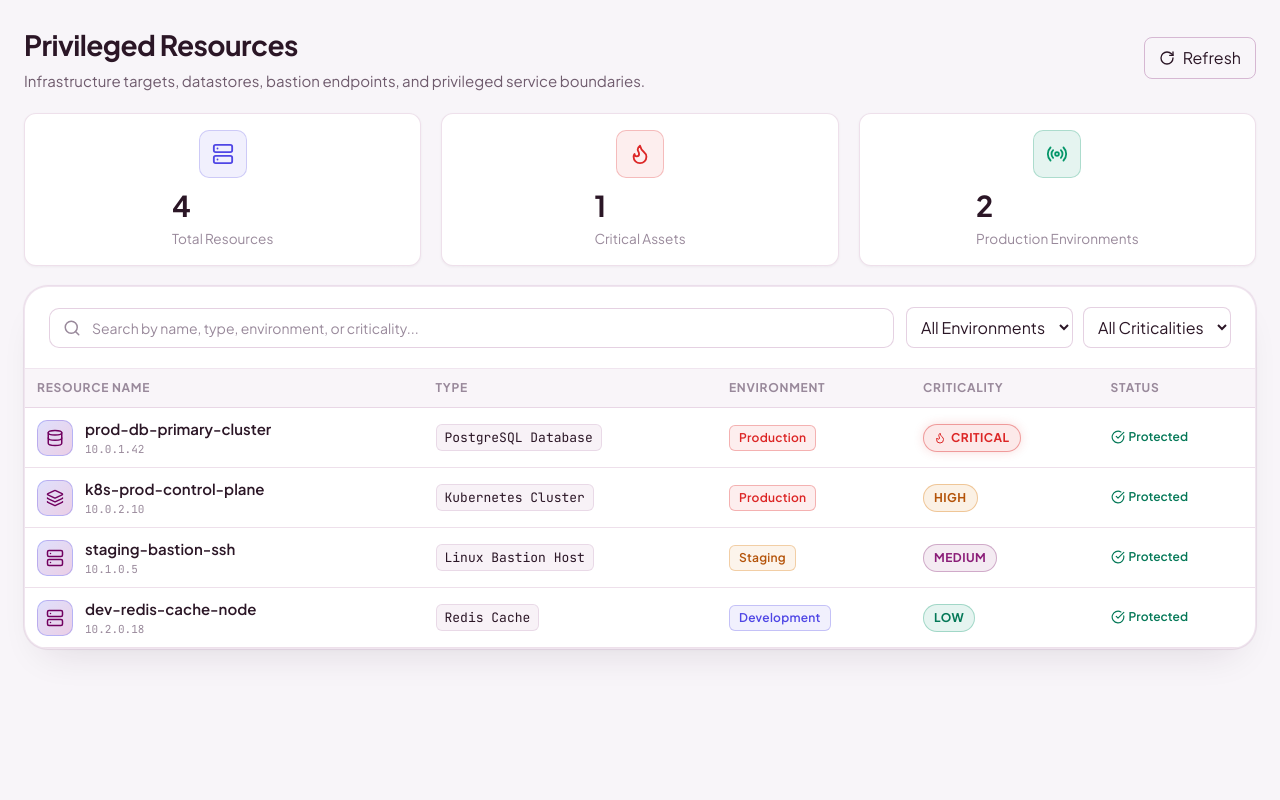
it: Resource List Screen (Resources Component) › filters resources dynamically when typing in the search input
Expected: the text "prod-db-primary-cluster" is shown, [85, 418, 271, 441]
In the field named "search resources": (472, 328) [49, 308, 894, 348], type "bastion"
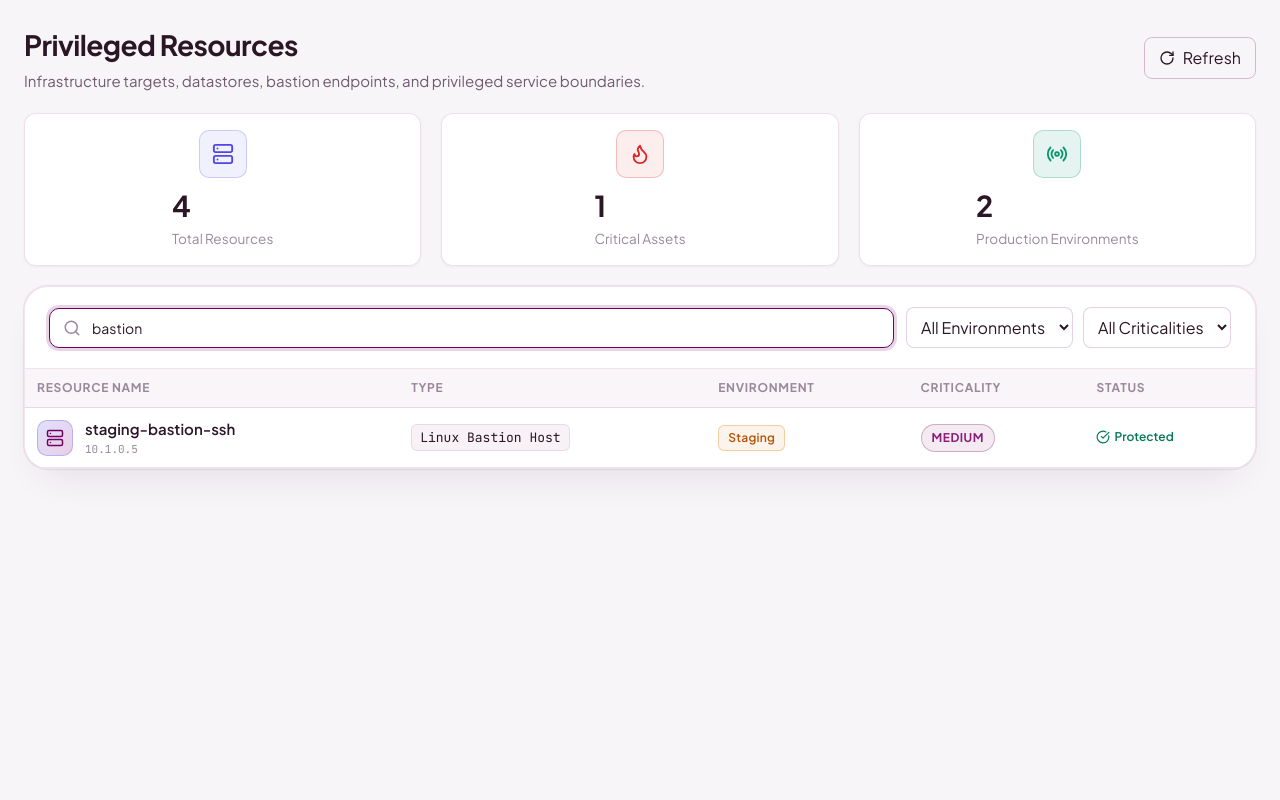
Expected: the text "staging-bastion-ssh" is shown, [85, 418, 235, 441]
Expected: the text "prod-db-primary-cluster" is gone
Expected: the text "k8s-prod-control-plane" is gone
